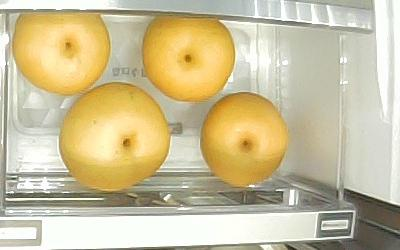pear: (58, 82, 171, 192), (199, 91, 290, 187), (141, 14, 236, 103), (12, 11, 111, 94)
